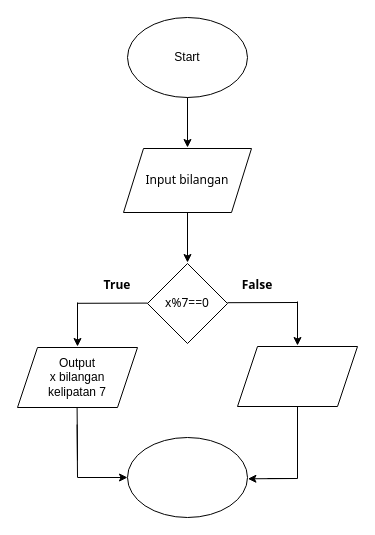
The diagram is 375 pixels wide and 535 high, and some of its shapes have lost their labels. Here are the shapes that lost their labels. From the top down, the centre of each, then its label:
[297,376]: Output x bukan bilangan kelipatan 7
[187,477]: End
